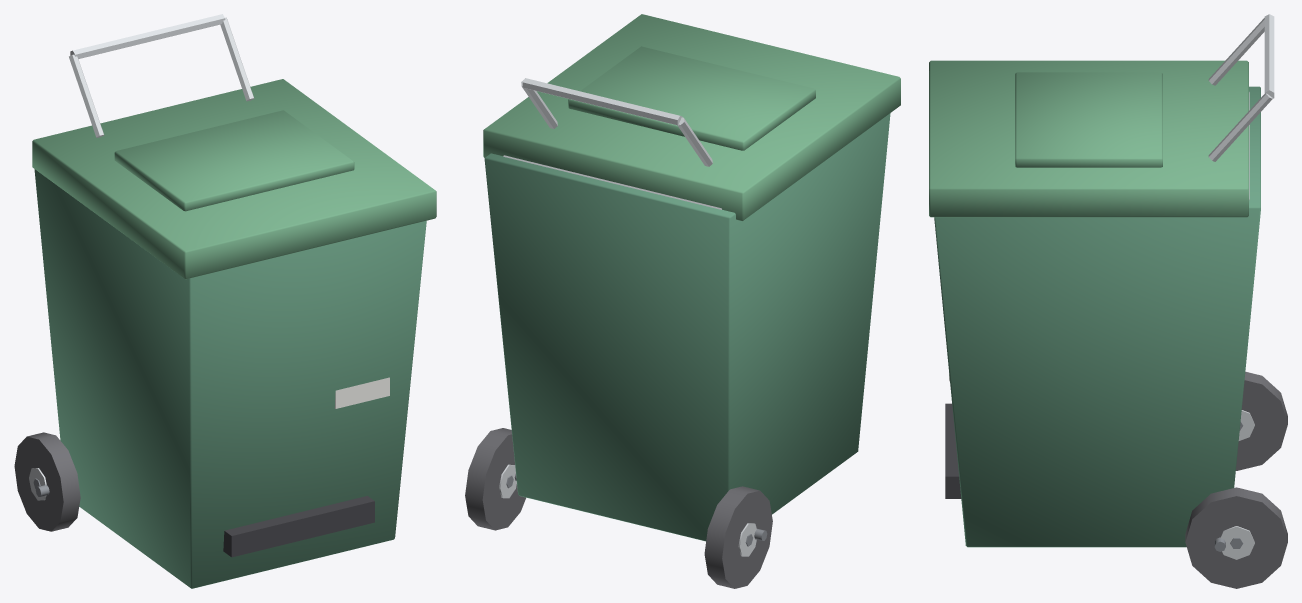
File: TrashCart_96.fbx
3 renders of one model, left to right at view 1: azimuth 30°, elevation 25°; view 2: azimuth 150°, elevation 25°; view 3: azimuth 270°, elevation 25°, orthographic. The views are drawn at different scales.
Parts seen in each view (by area): view 1: LOD0; view 2: LOD0; view 3: LOD0.
Part boxes in pixels (left/top/right/bottom): LOD0: left=14, top=14, right=436, bottom=588; LOD0: left=465, top=14, right=900, bottom=588; LOD0: left=929, top=14, right=1287, bottom=588.
Size of what is drawn, in the model's own units: 78 by 127 by 87.5.
